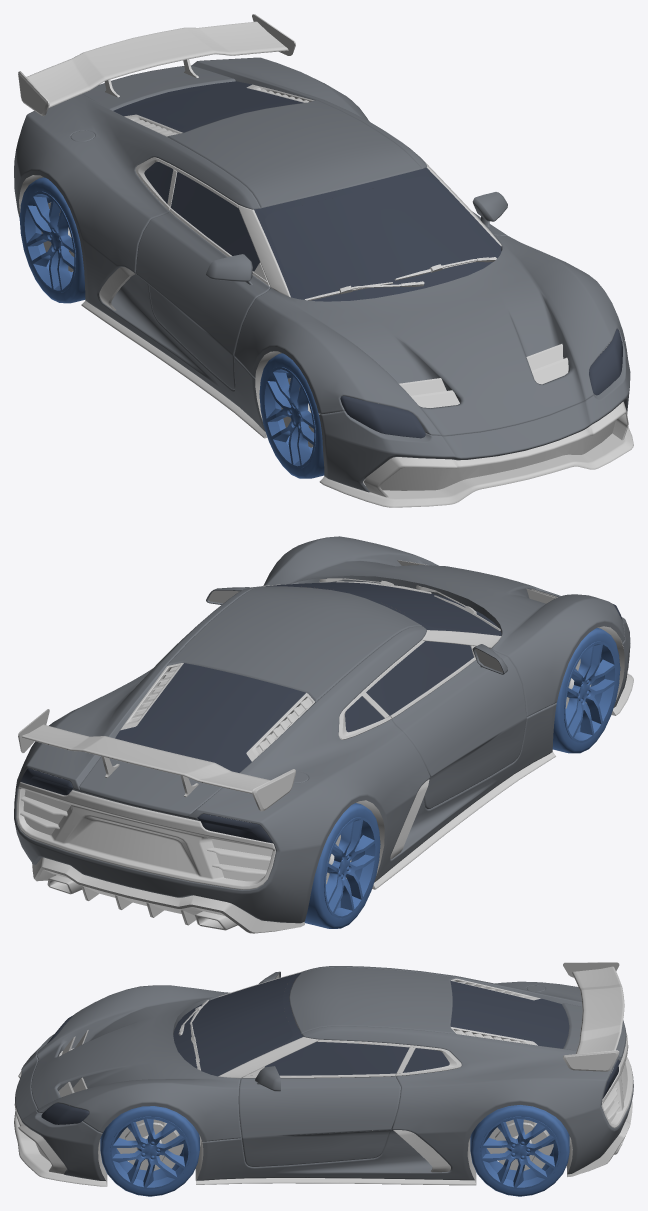
The model's file is RealisticCar06_HD_LOD1.FBX.
The picture shows the model from 3 angles, top to bottom: view 1: azimuth 30°, elevation 25°; view 2: azimuth 150°, elevation 25°; view 3: azimuth 270°, elevation 25°; orthographic projection. The views are drawn at different scales.
Visible parts, largest first — view 1: Car06_Body_LOD1, Car06_Glass_LOD1, Car06_Door_Right_LOD1, Car06_Wheel_Rear_Right_LOD1, Car06_Wheel_Front_Right_LOD1, Car06_Door_Left_LOD1; view 2: Car06_Body_LOD1, Car06_Glass_LOD1, Car06_Door_Right_LOD1, Car06_Wheel_Rear_Right_LOD1, Car06_Wheel_Front_Right_LOD1; view 3: Car06_Body_LOD1, Car06_Door_Left_LOD1, Car06_Glass_LOD1, Car06_Wheel_Rear_Left_LOD1, Car06_Wheel_Front_Left_LOD1, Car06_BrakeDisc_FrontLeft_LOD1, Car06_BrakeDisc_RearLeft_LOD1.
Part boxes in pixels (x1,y1,x2,y2): Car06_Body_LOD1: (14, 14, 633, 507); Car06_Glass_LOD1: (113, 81, 622, 438); Car06_Door_Right_LOD1: (136, 171, 270, 389); Car06_Wheel_Rear_Right_LOD1: (19, 177, 85, 303); Car06_Wheel_Front_Right_LOD1: (259, 353, 324, 478); Car06_Door_Left_LOD1: (472, 192, 508, 236); Car06_Body_LOD1: (14, 536, 633, 933); Car06_Glass_LOD1: (20, 582, 622, 843); Car06_Door_Right_LOD1: (366, 641, 526, 808); Car06_Wheel_Rear_Right_LOD1: (304, 803, 380, 928); Car06_Wheel_Front_Right_LOD1: (552, 628, 620, 753); Car06_Body_LOD1: (14, 962, 633, 1186); Car06_Door_Left_LOD1: (238, 1041, 409, 1166); Car06_Glass_LOD1: (41, 972, 620, 1124); Car06_Wheel_Rear_Left_LOD1: (470, 1105, 569, 1196); Car06_Wheel_Front_Left_LOD1: (100, 1106, 199, 1196); Car06_BrakeDisc_FrontLeft_LOD1: (123, 1122, 165, 1170); Car06_BrakeDisc_RearLeft_LOD1: (493, 1122, 535, 1170).
Bounding box in the file's own units: 2 × 4.59 × 1.23.
